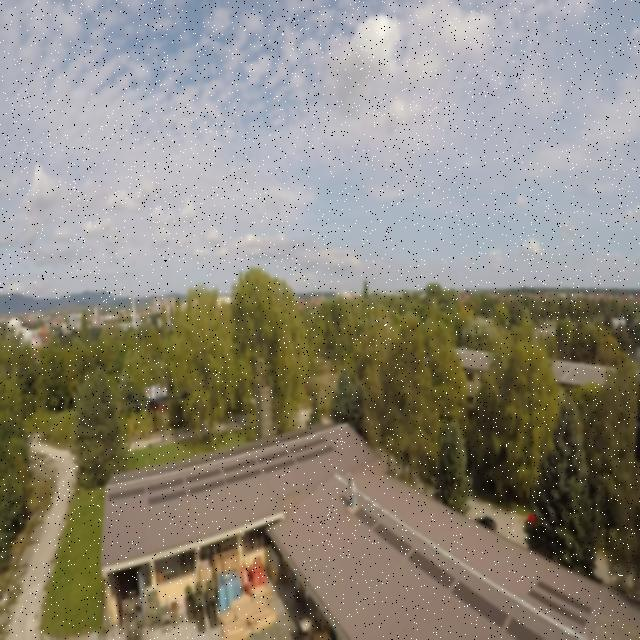UAV: (125, 378, 189, 449)
